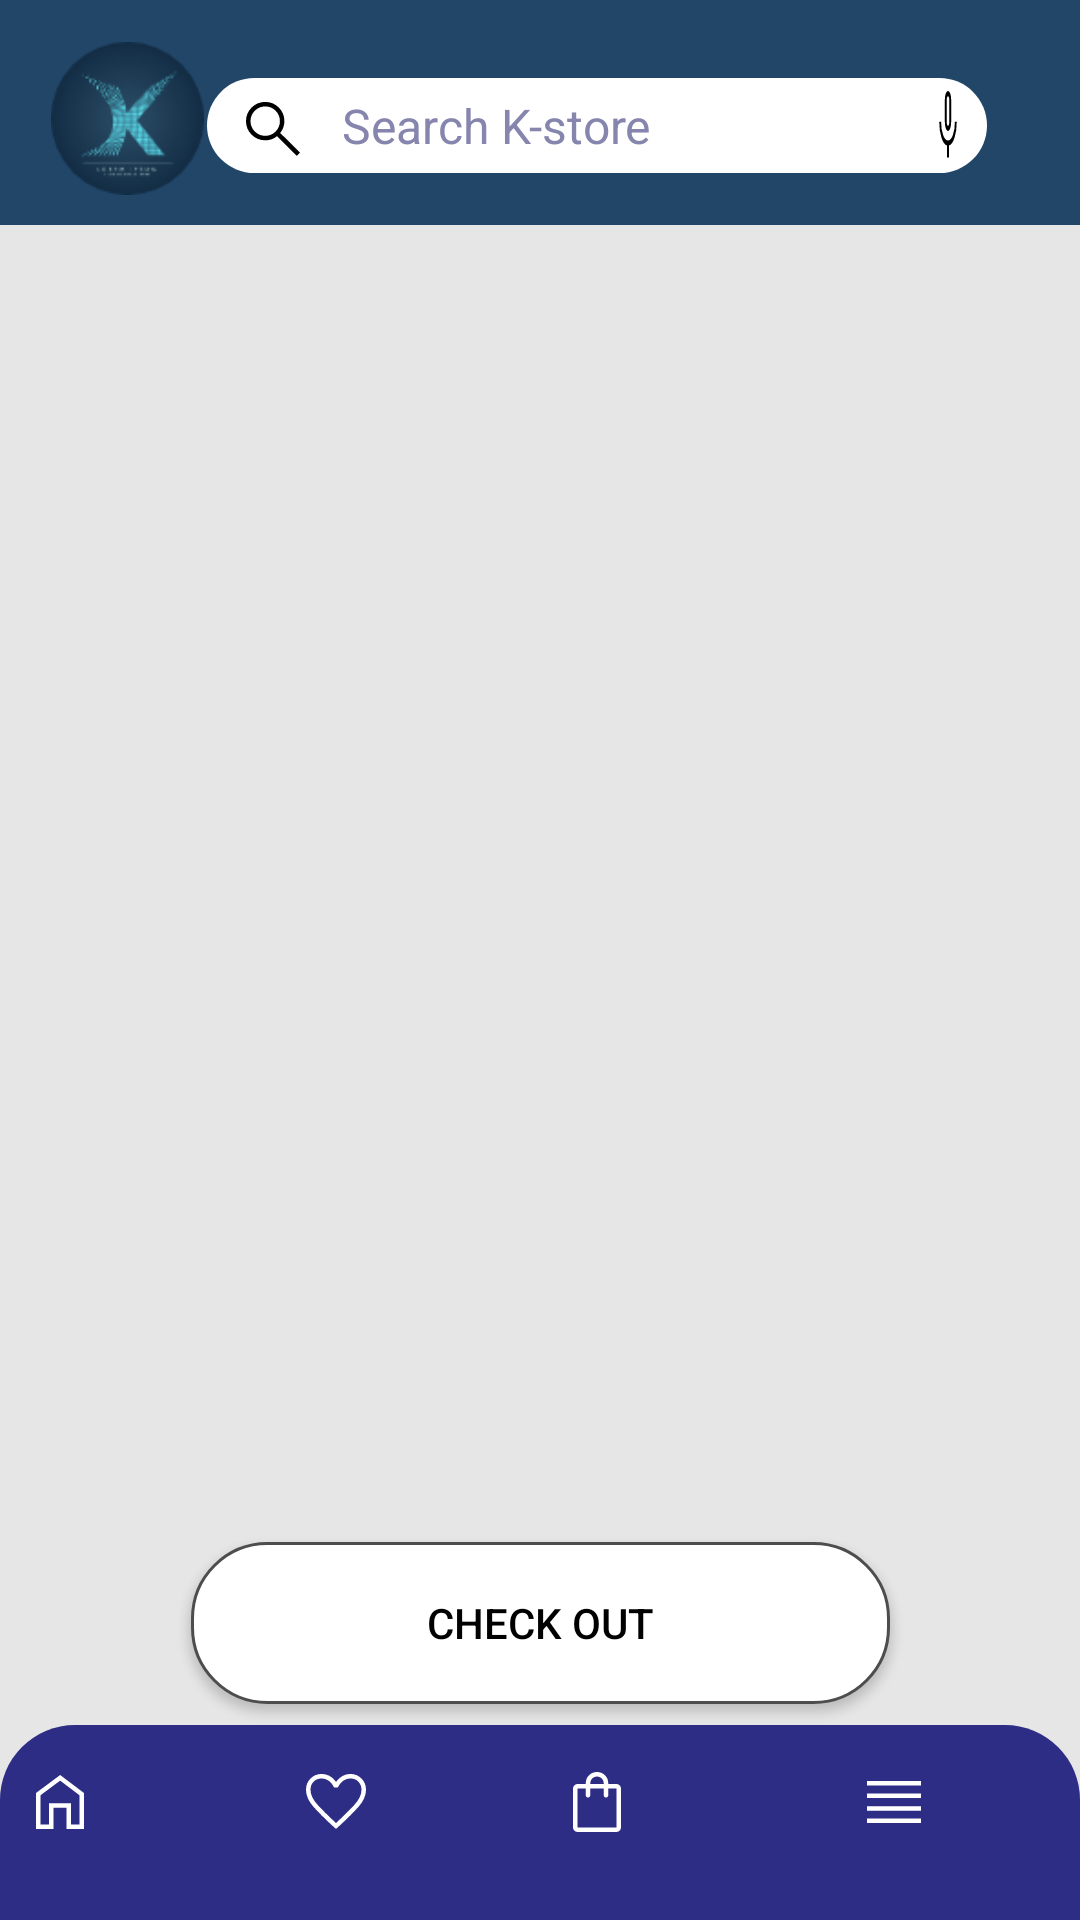

Where to tap for icons on this 1080×1920 app screen, as (x,y):
favorite: (336,1801)
home: (60,1802)
keyboard voice: (948,124)
reorder: (894,1802)
shopping bag: (597,1802)
